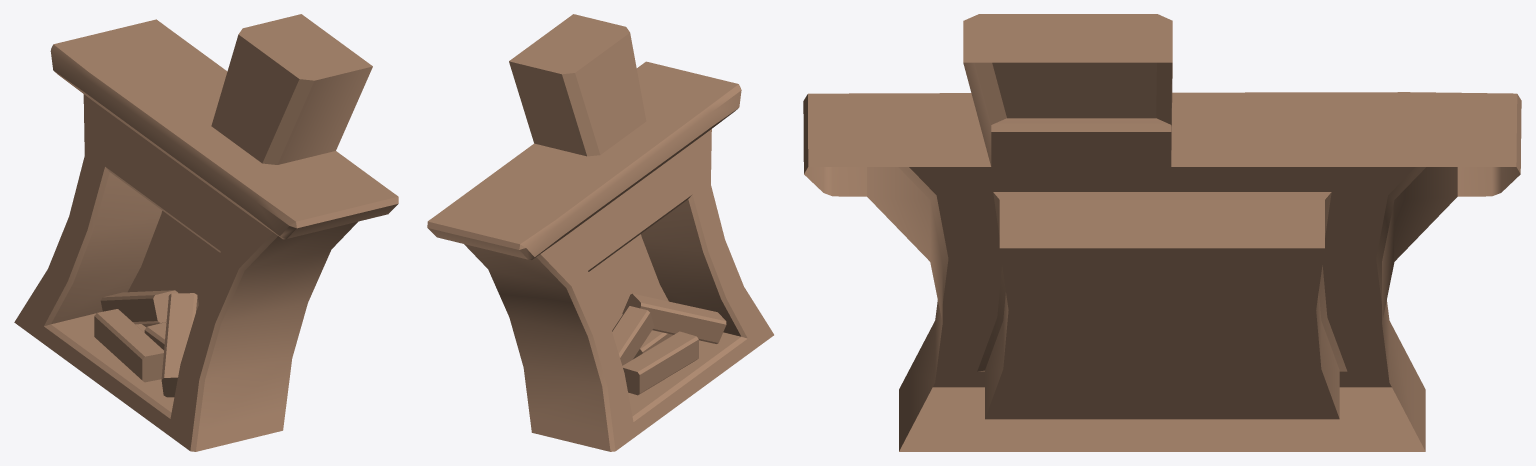
Rendered from SM_FirePlace_003.fbx.
3 views of the same model, side by side, from view 1: azimuth 30°, elevation 25°; view 2: azimuth 150°, elevation 25°; view 3: azimuth 270°, elevation 25° (orthographic). The views are drawn at different scales.
Visible parts, largest first — view 1: Fireplace; view 2: Fireplace; view 3: Fireplace.
Boxes of the visible parts, left/top/right/bottom form: Fireplace: left=14, top=14, right=398, bottom=451; Fireplace: left=427, top=14, right=773, bottom=451; Fireplace: left=803, top=14, right=1521, bottom=451.
Bounding box in the file's own units: 52.86 × 79.94 × 111.
